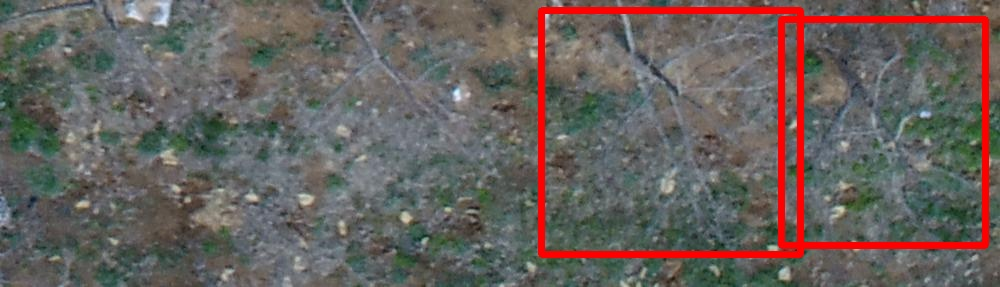apple: (541, 10, 800, 254), (781, 19, 985, 245)
